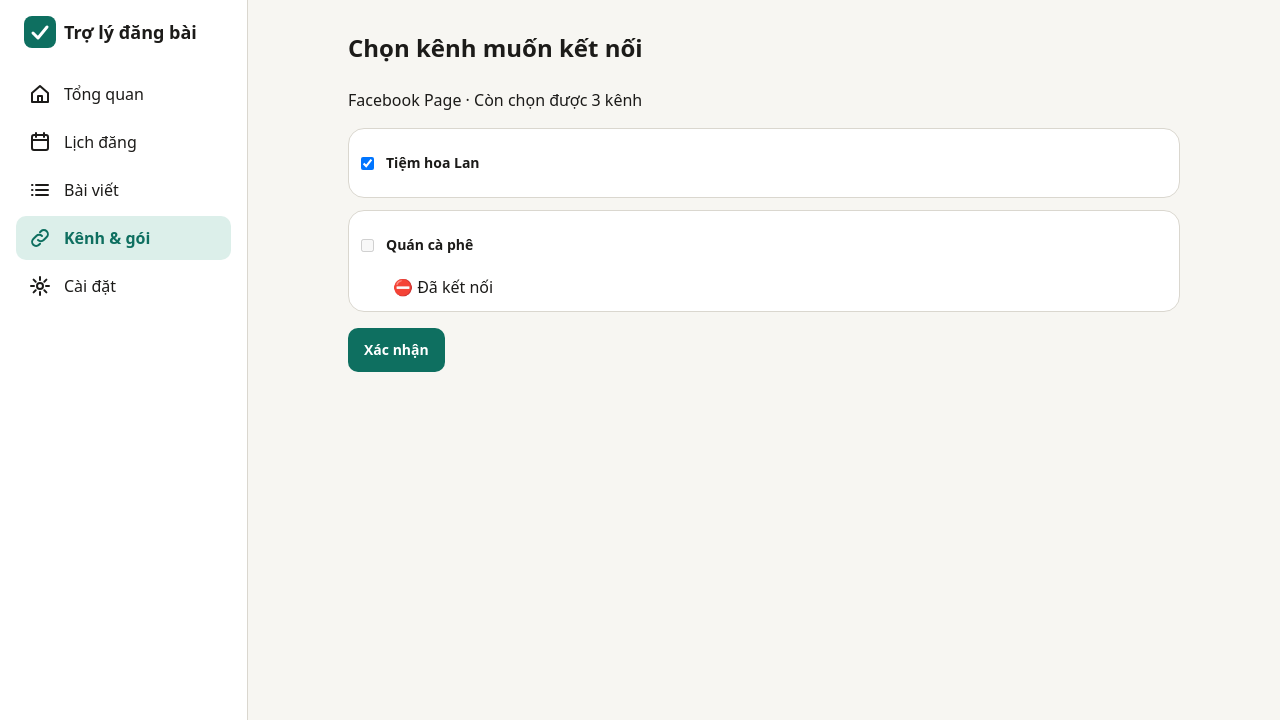
Test: SelectChannelsPage › chỉ một ứng viên chọn được ⇒ chọn sẵn; bấm Xác nhận hiện kết quả từng Page
This screenshot has width=1280, height=720.
Expected: the checkbox labelled "Tiệm hoa Lan" is checked, [361,156,374,170]
Expected: the checkbox labelled "Quán cà phê" is disabled, [361,238,374,252]
What coordinates should you click on to do the following:
click the button "Xác nhận"
I would click on:
 (396, 350)
Its box is [348,328,445,372].
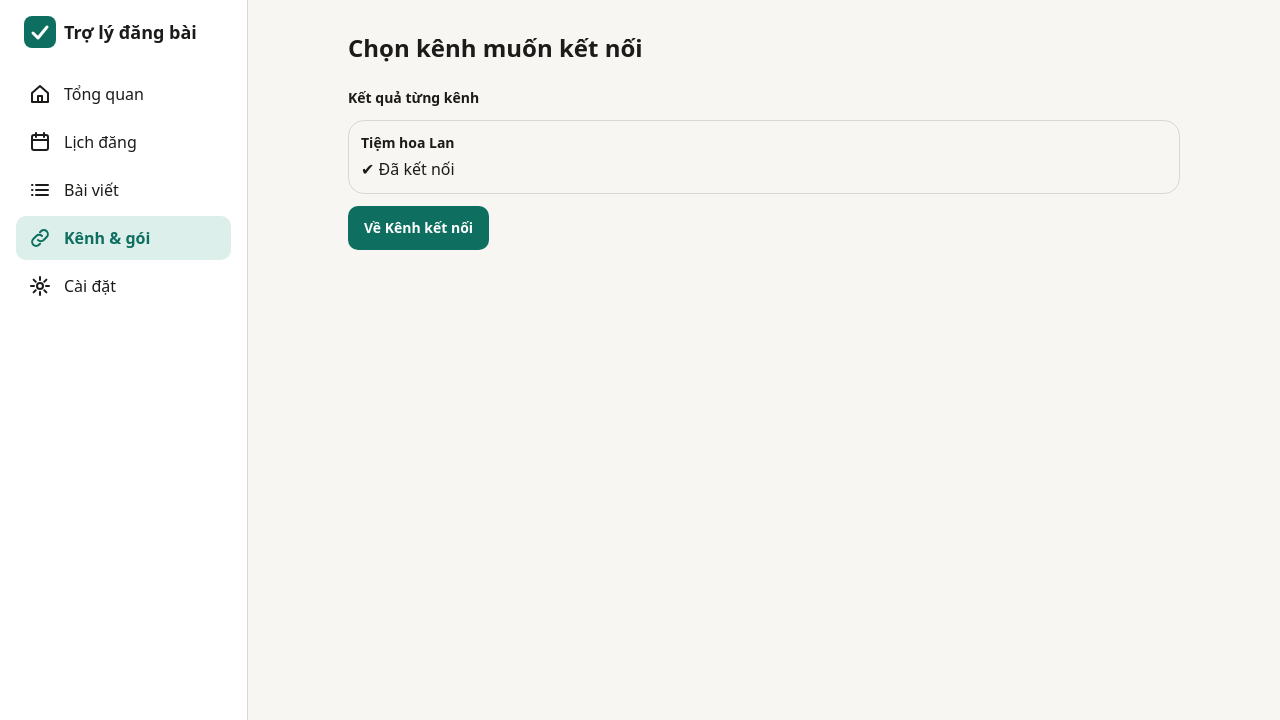
Expected: the heading "Kết quả từng kênh" is shown, [348,88,479,107]
Expected: the text "Đã kết nối" is shown, [379,158,455,180]
